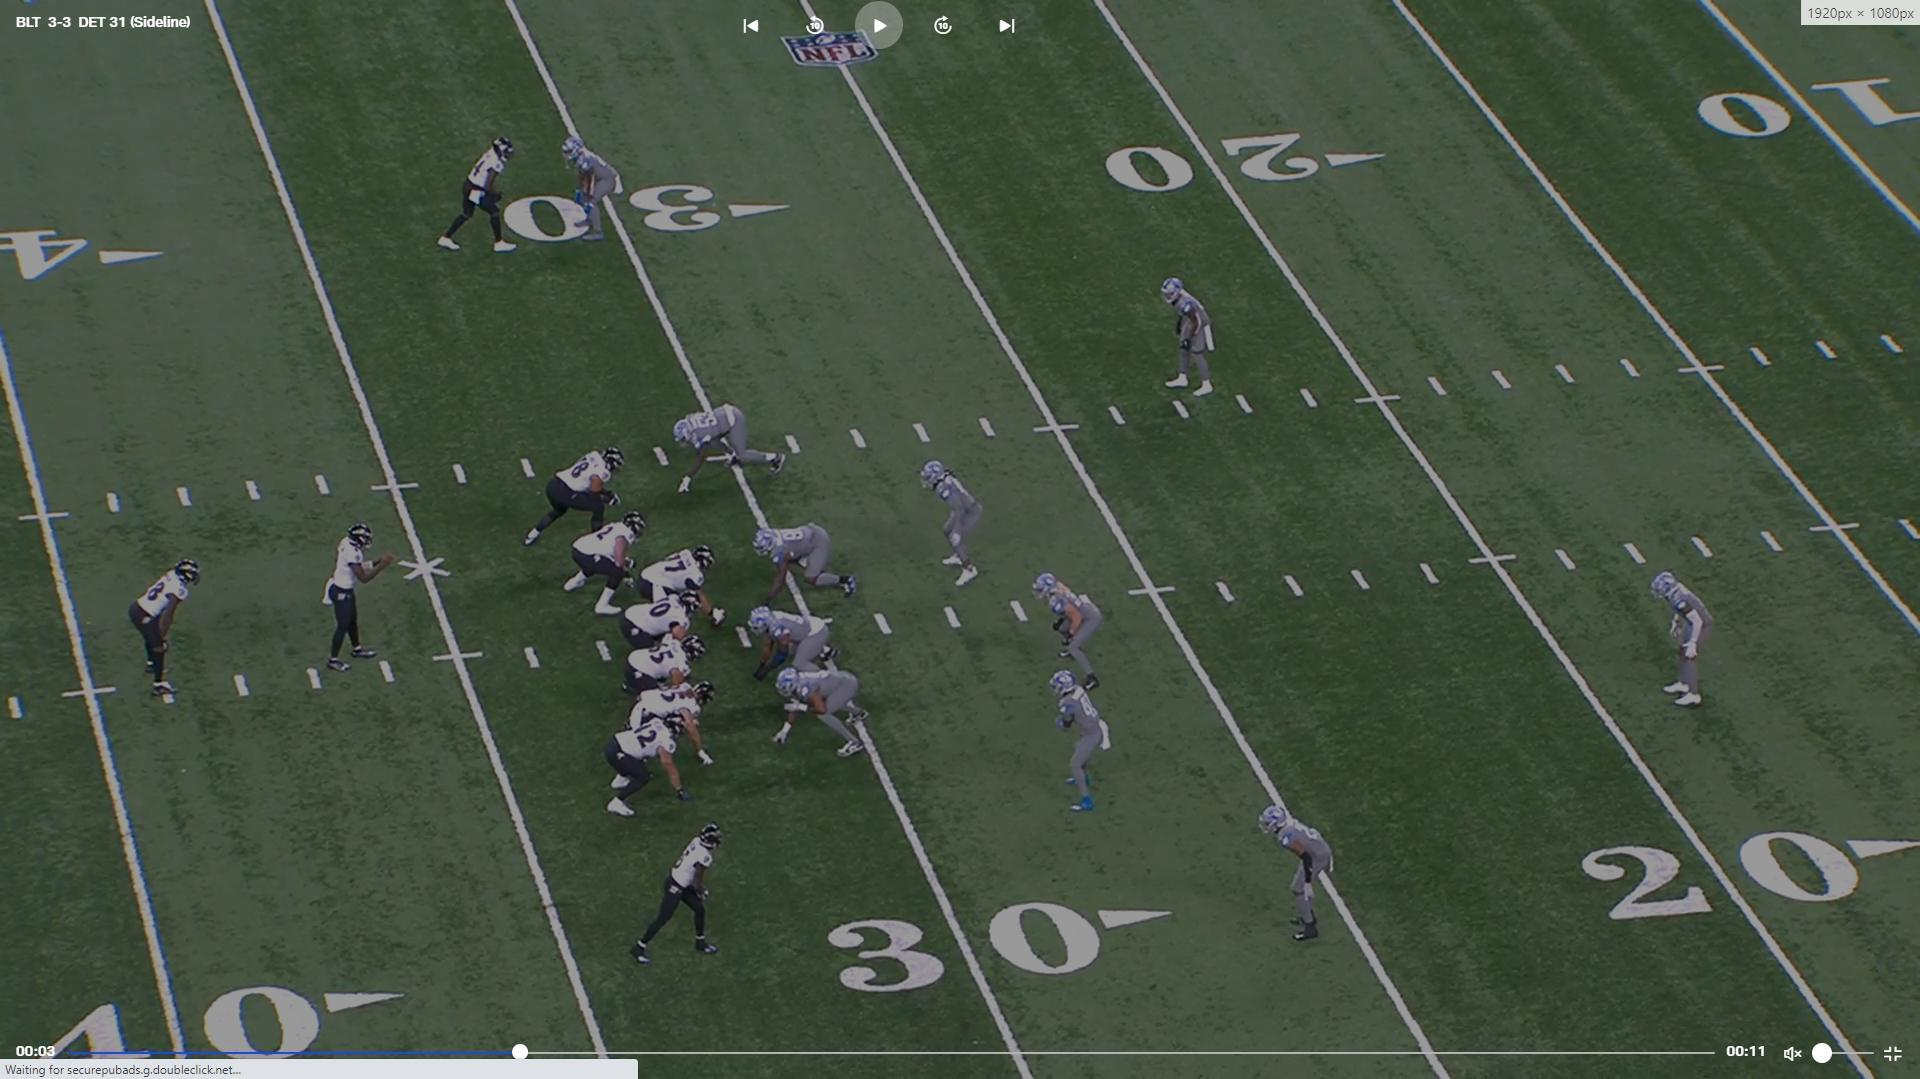defense: (1258, 801, 1337, 951), (1648, 565, 1720, 716), (661, 405, 774, 499), (770, 667, 877, 765), (1047, 667, 1116, 819), (918, 458, 988, 594), (1033, 570, 1105, 694), (756, 525, 865, 607), (554, 132, 624, 259), (749, 605, 848, 689), (1159, 270, 1218, 402)
oline: (524, 443, 622, 550), (567, 516, 651, 616), (636, 549, 717, 634), (624, 632, 707, 707), (621, 590, 704, 663)
qb: (330, 521, 393, 679)
skill: (624, 827, 729, 973), (132, 553, 211, 702), (603, 699, 698, 823), (435, 131, 520, 259), (626, 679, 715, 774)
